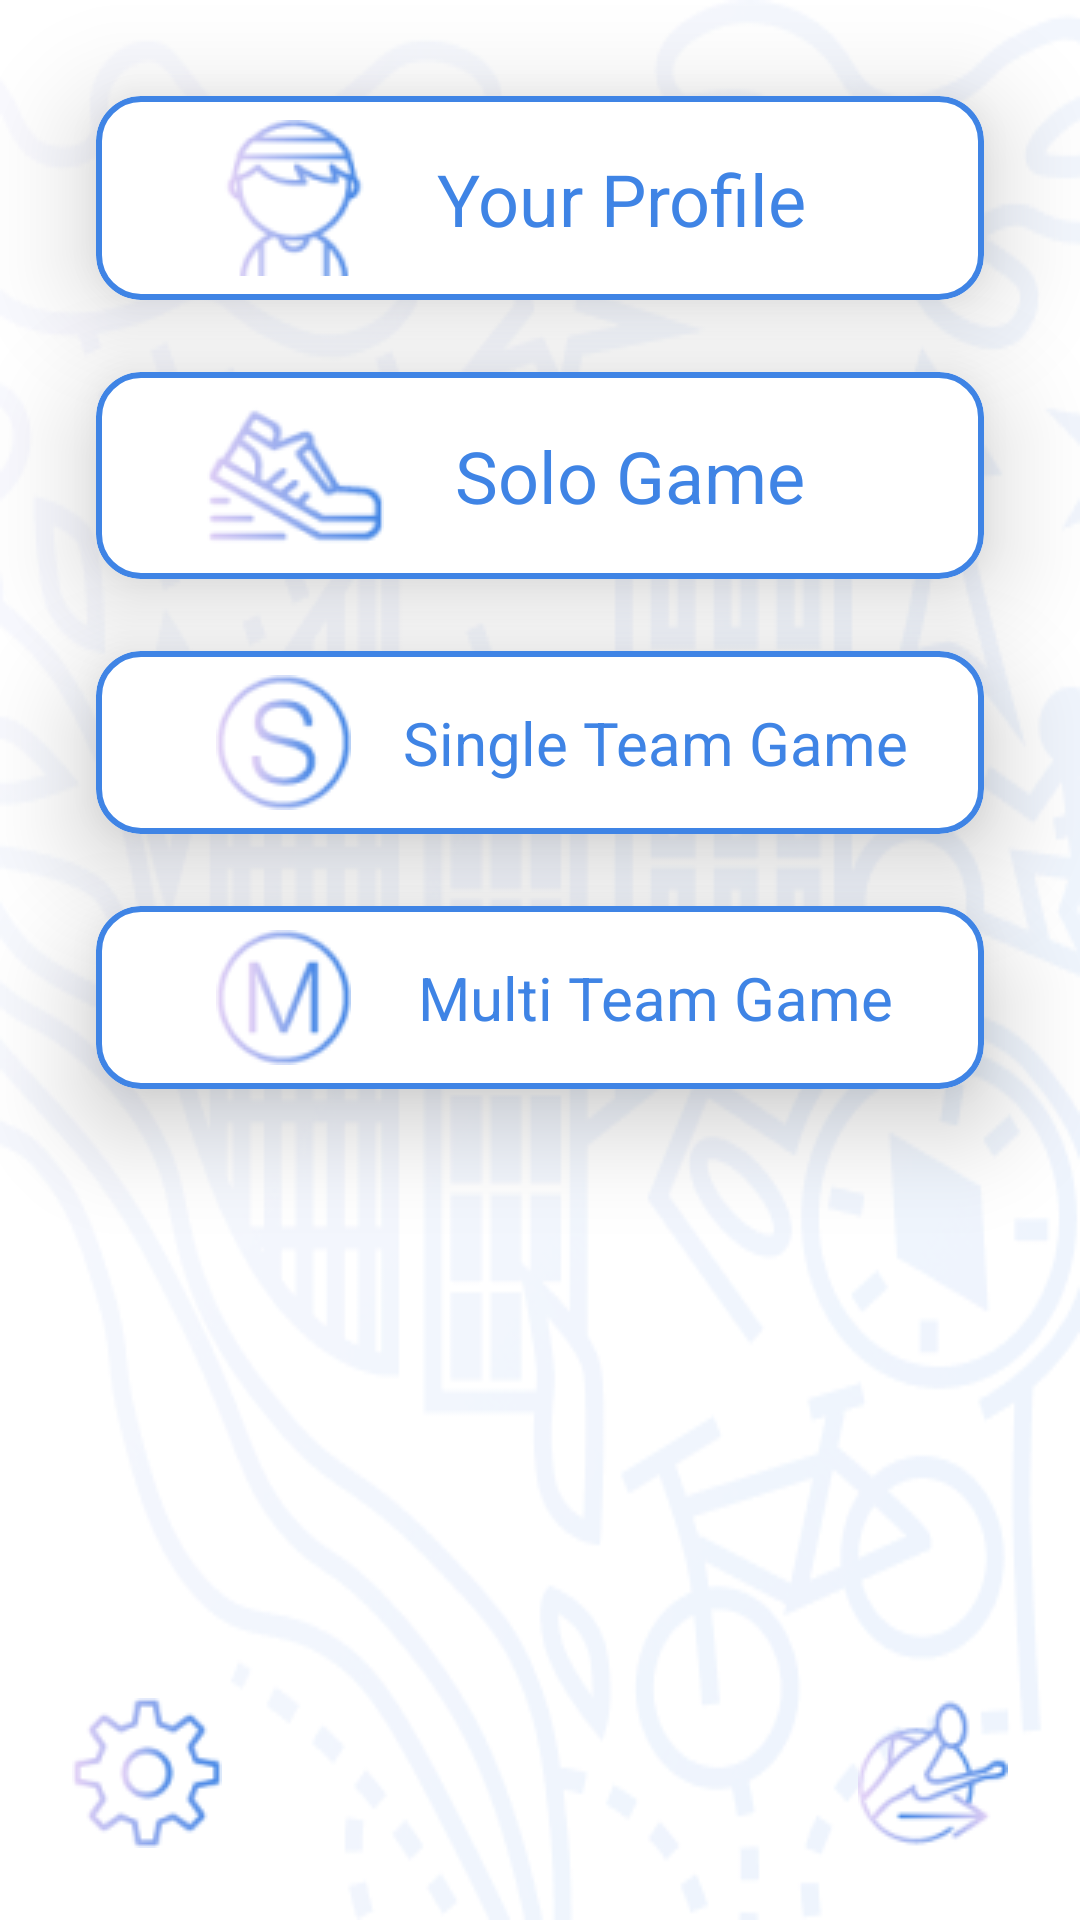

Icon click points for this 1080px x 1920px phone screenshot, format point (x, y):
boy: point (294, 198)
setting: point (148, 1773)
